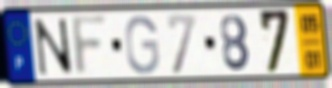7: (256, 8, 292, 77), (165, 12, 199, 76)
8: (219, 12, 252, 73)
F: (70, 12, 110, 79)
G: (123, 13, 161, 77)
N: (31, 17, 76, 78)
